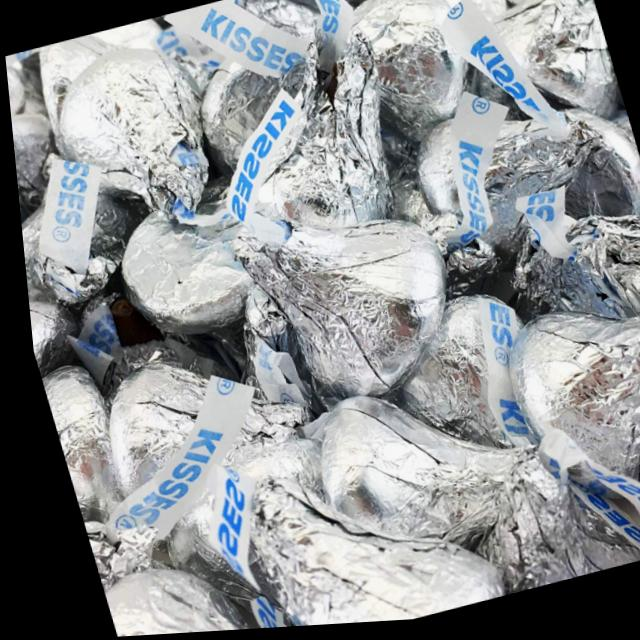kisses: (188, 152, 482, 438), (15, 16, 248, 257), (289, 377, 531, 574), (483, 286, 640, 535), (307, 0, 527, 167)
